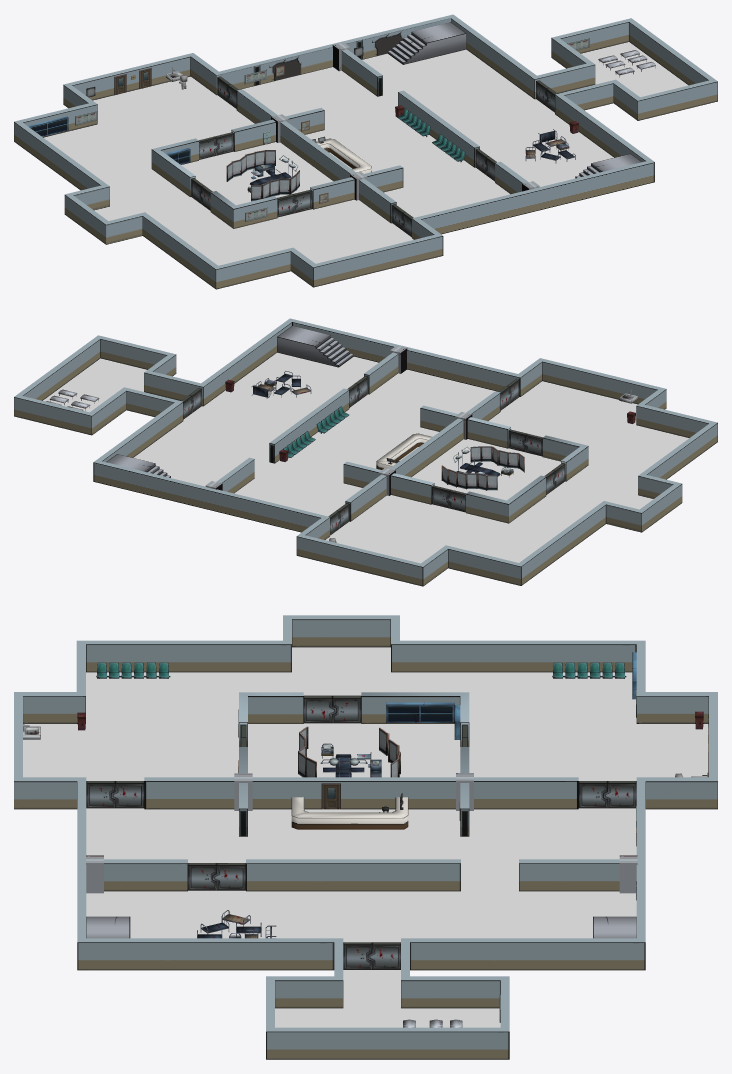
Rendered from Zombie3D_DDS_level_02.FBX.
3 renders of one model, top to bottom at view 1: azimuth 30°, elevation 25°; view 2: azimuth 150°, elevation 25°; view 3: azimuth 270°, elevation 25°, orthographic. The views are drawn at different scales.
Visible parts, largest first — view 1: floor, Object01, Object03, Object04, Line03, Line01, Line04, Box82; view 2: floor, Object01, Object04, Object03, Line04, Line01, Line03; view 3: floor, Object01, Object03, Object04, Line01, Box02, Line04, Line03, door_11, door_03, door_10, door_02 (+8 smaller).
Boxes of the visible parts, x1,y1,x2,y2 form: floor: (44,42,688,265); Object01: (14,14,717,289); Object03: (236,49,528,223); Object04: (151,107,403,228); Line03: (387,22,466,64); Line01: (316,138,371,173); Line04: (575,153,641,178); Box82: (28,116,68,136); floor: (43,352,688,563); Object01: (14,318,717,586); Object04: (343,405,588,523); Object03: (216,352,500,521); Line04: (277,325,353,367); Line01: (376,433,432,469); Line03: (106,454,170,477); floor: (23,647,708,1027); Object01: (14,615,717,1059); Object03: (104,777,619,891); Object04: (239,692,469,836); Line01: (291,797,408,829); Box02: (386,702,454,722); Line04: (86,916,130,938); Line03: (593,916,636,938); door_11: (303,695,336,723); door_03: (111,781,144,808); door_10: (603,781,636,808); door_02: (212,863,245,890).
Size of the model in its own units: 76.09 by 2.6 by 54.4.
